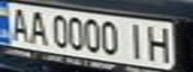0: (100, 18, 124, 56), (81, 16, 103, 54), (48, 11, 69, 50), (66, 15, 84, 52)
A: (3, 4, 33, 43), (24, 8, 48, 46)
H: (142, 22, 178, 63)
I: (121, 20, 151, 61)
